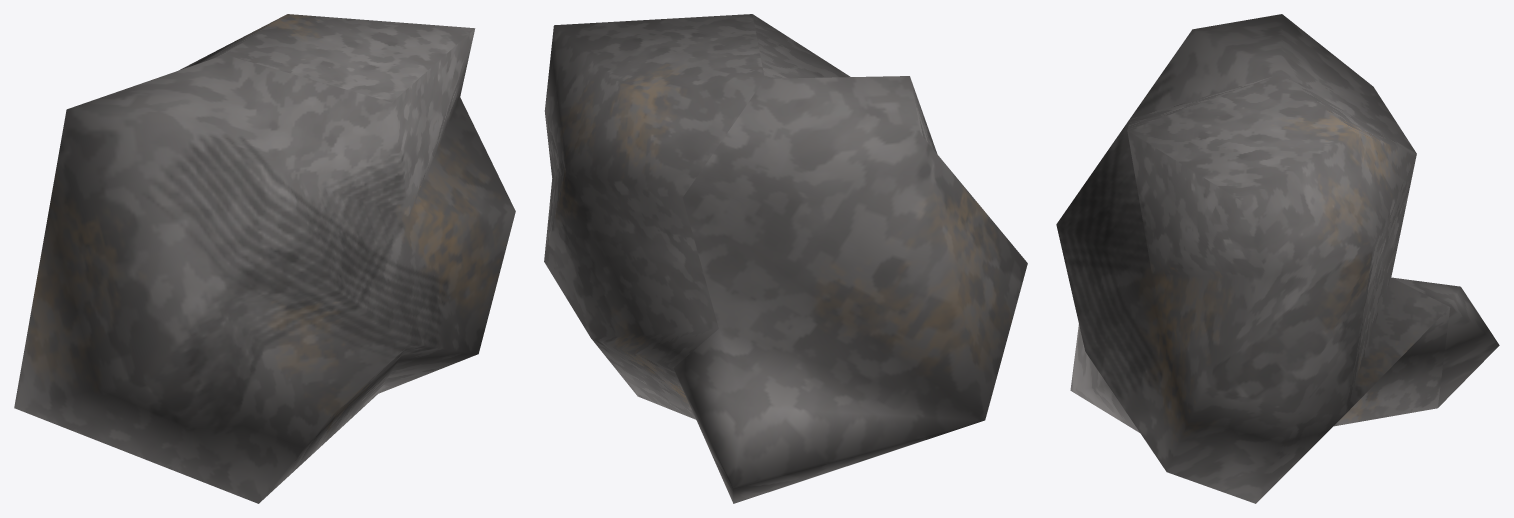
File: stone2.fbx
3 renders of one model, left to right at view 1: azimuth 30°, elevation 25°; view 2: azimuth 150°, elevation 25°; view 3: azimuth 270°, elevation 25°, orthographic.
Parts seen in each view (by area): view 1: pCube1; view 2: pCube1; view 3: pCube1.
Boxes of the visible parts, bbox=[...] form: pCube1: bbox=[14, 14, 515, 503]; pCube1: bbox=[544, 14, 1027, 503]; pCube1: bbox=[1056, 14, 1499, 503].
Size of the model in its own units: 16.82 by 12.47 by 13.85.
